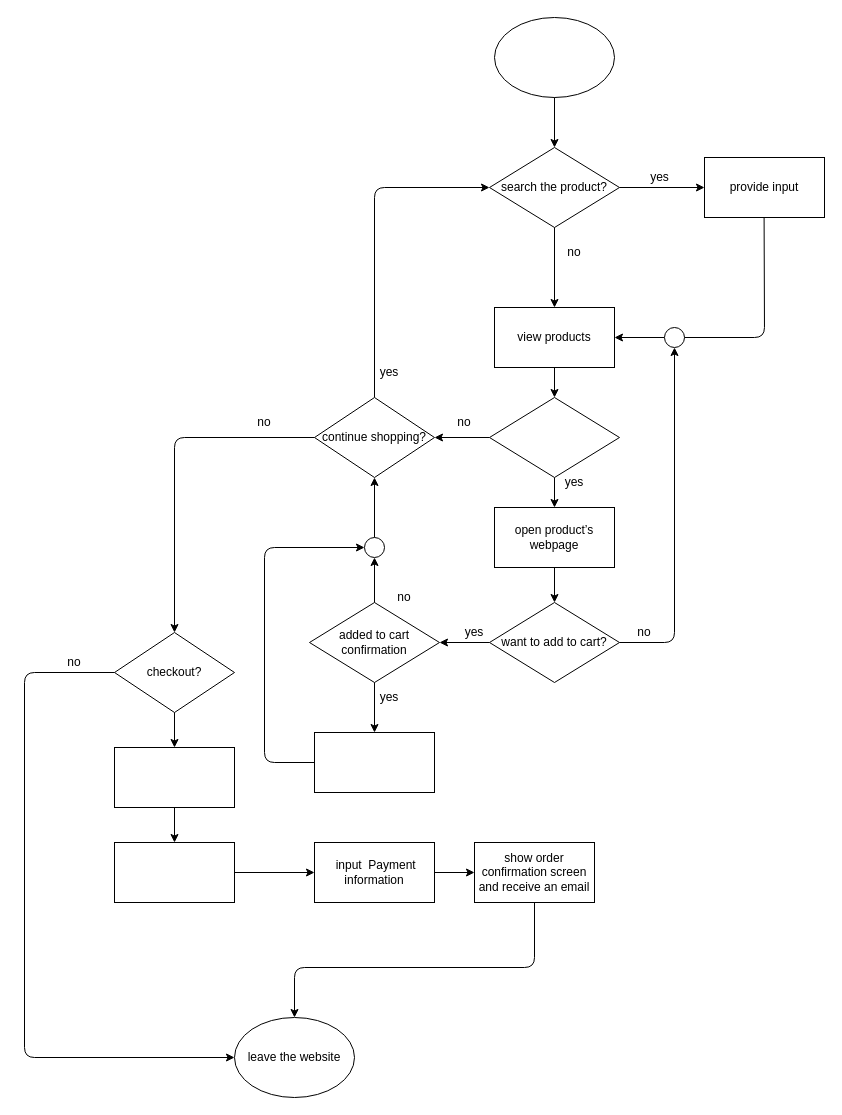
This 842x1115 diagram has some shape labels left out. Here are the shapes that lost their labels. From the top down, the centre of each, then its label:
(554,57): enter the website
(554,437): viewing a specific product?
(174,777): View Cart screen
(374,762): Product added to cart
(174,872): View Payment screen
